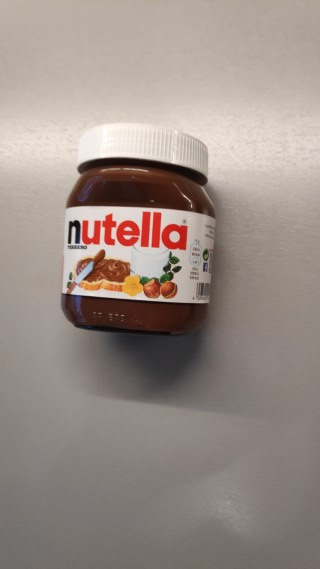nutella: (60, 121, 213, 339)
